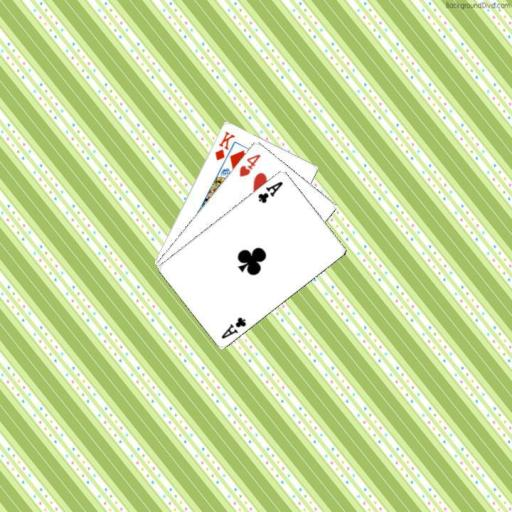4H: (236, 150, 262, 178)
AC: (255, 178, 285, 205), (218, 314, 248, 340)
KD: (212, 128, 236, 162)
